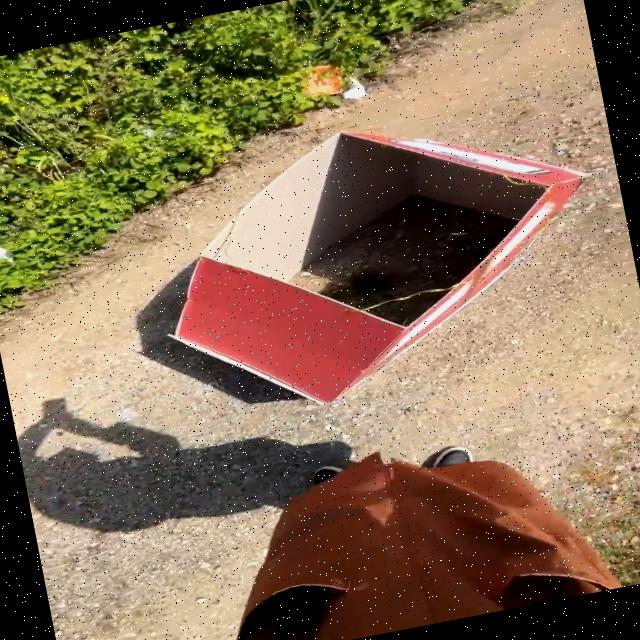red_car: (117, 71, 640, 445)
